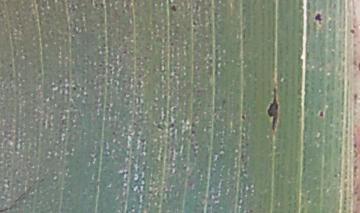tarspot: (259, 83, 286, 137), (312, 106, 329, 121), (311, 9, 325, 25), (166, 2, 180, 17), (237, 110, 250, 123), (347, 27, 358, 37), (167, 120, 177, 129)
